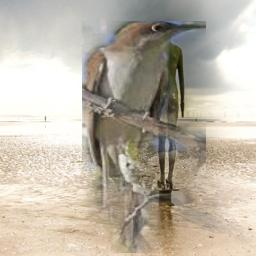Cuckoo: (82, 21, 206, 253)
